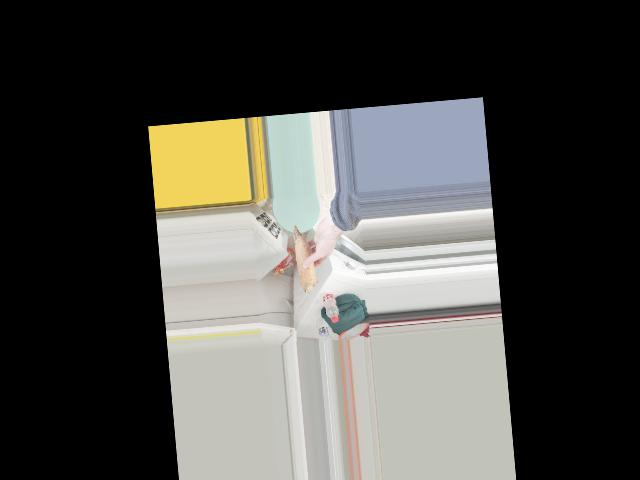sweet_potato: (293, 224, 316, 288)
